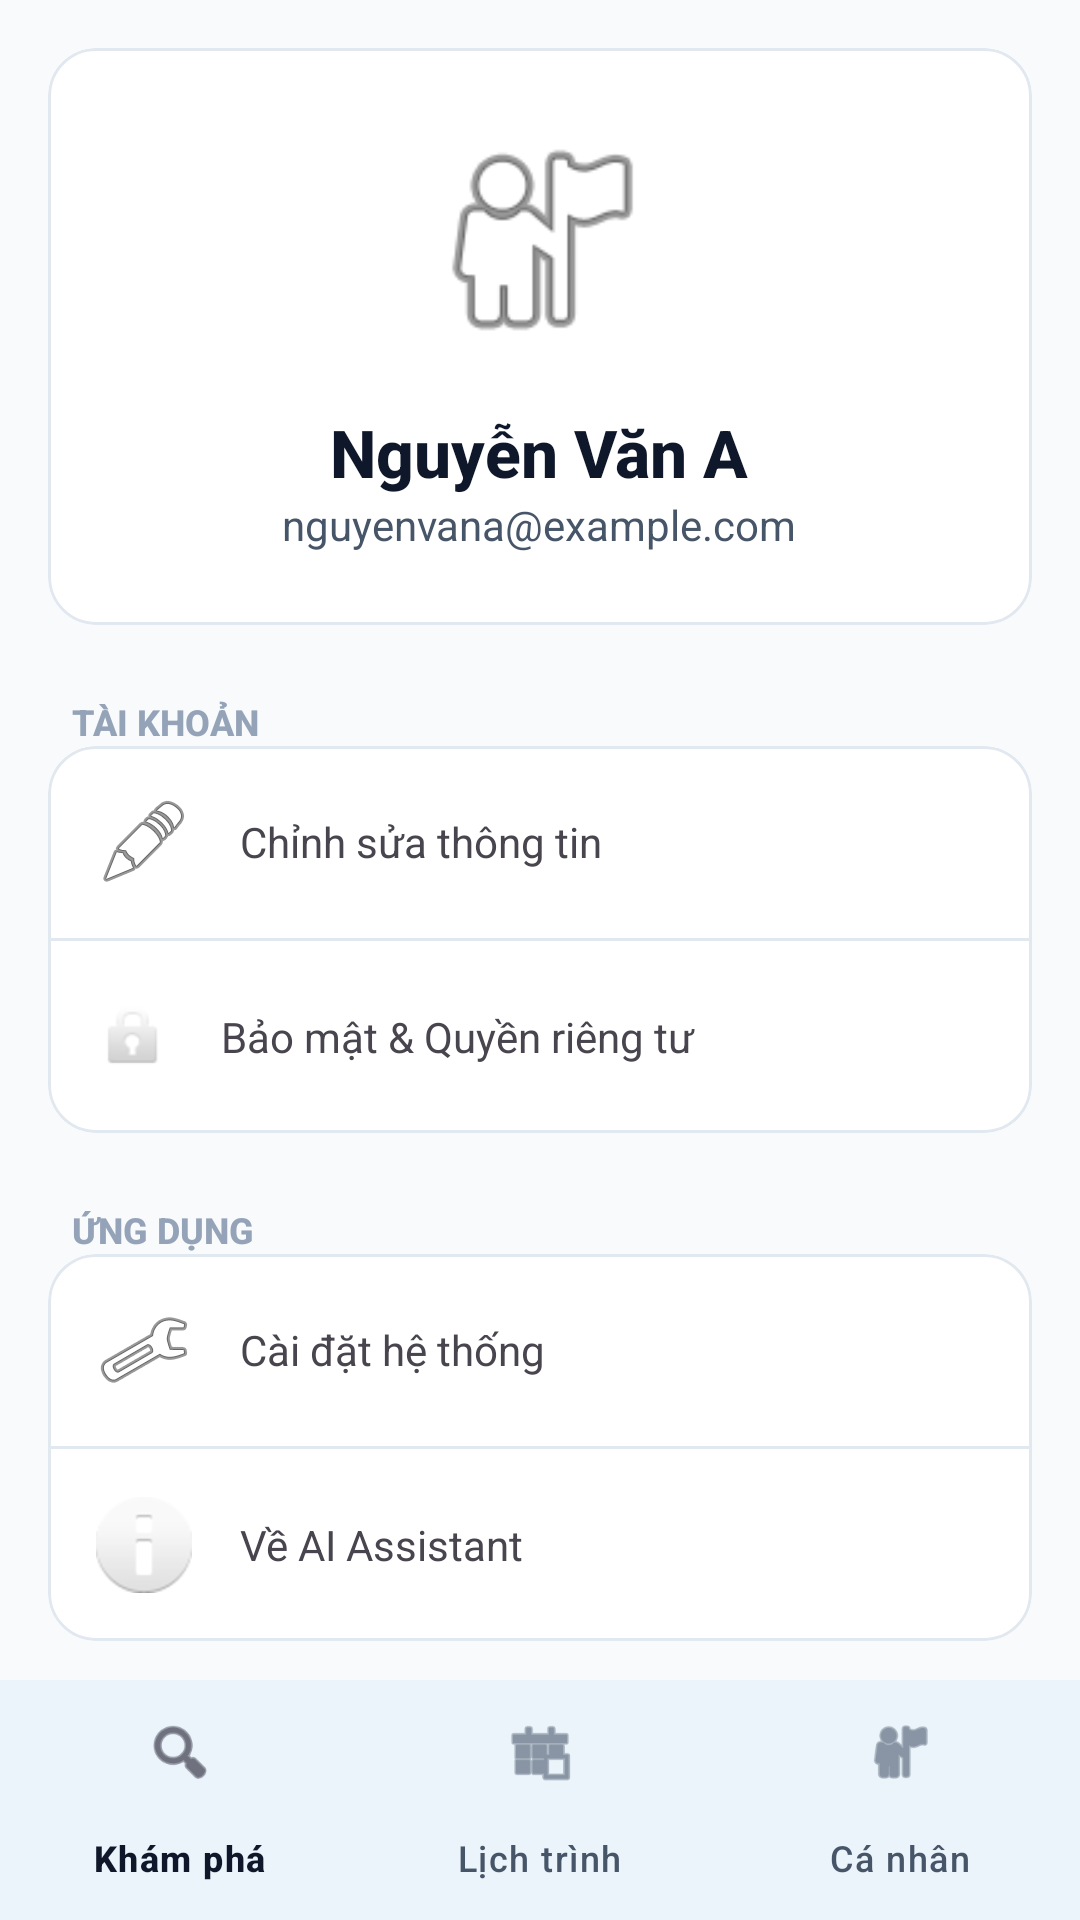

Icon click points for this 1080 × 1920 phone screenshot, format (x=x, y=y):
myplaces: (x=542, y=240)
